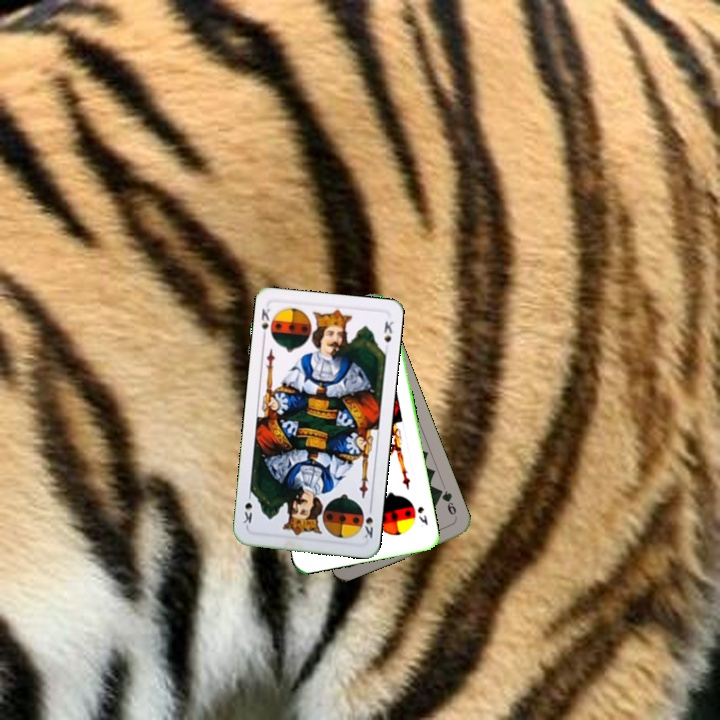G9: (434, 485, 460, 522)
SK: (360, 502, 376, 542), (257, 305, 273, 342), (413, 502, 430, 528)
